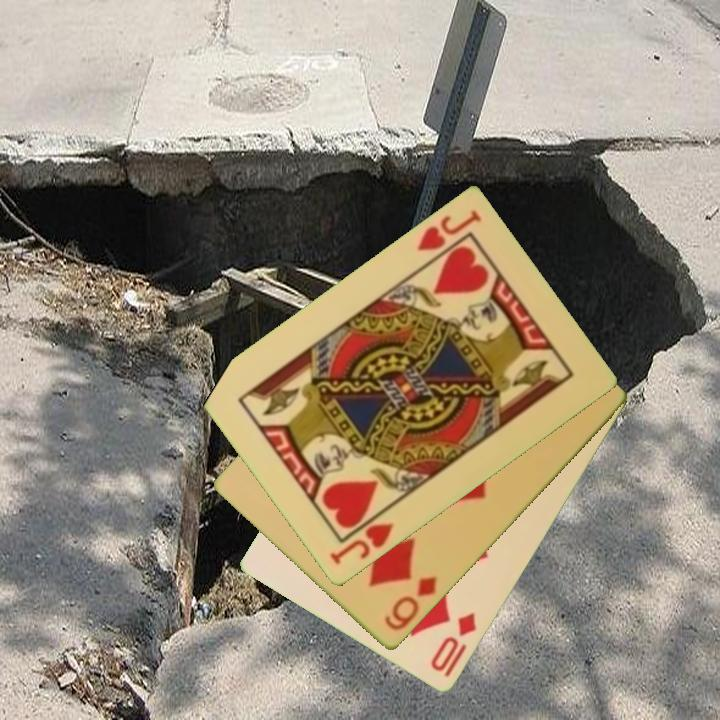10d: (427, 609, 480, 681)
6d: (381, 573, 440, 634)
Jh: (326, 519, 397, 568), (413, 207, 485, 255)
